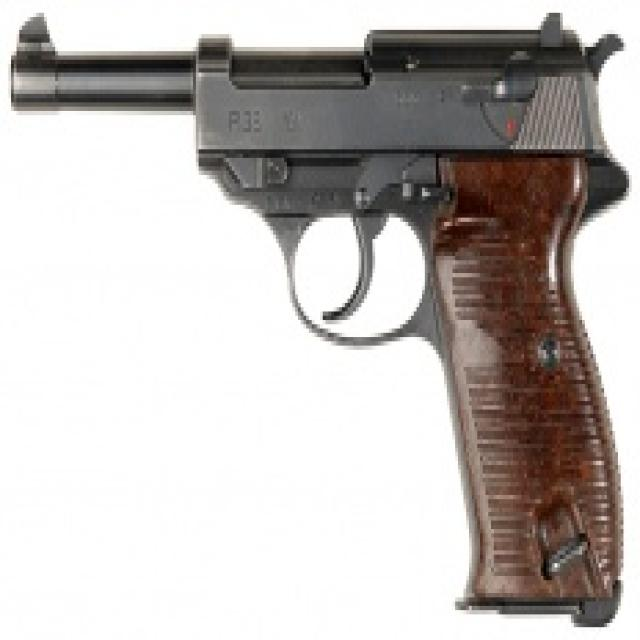pistol: (4, 1, 631, 635)
